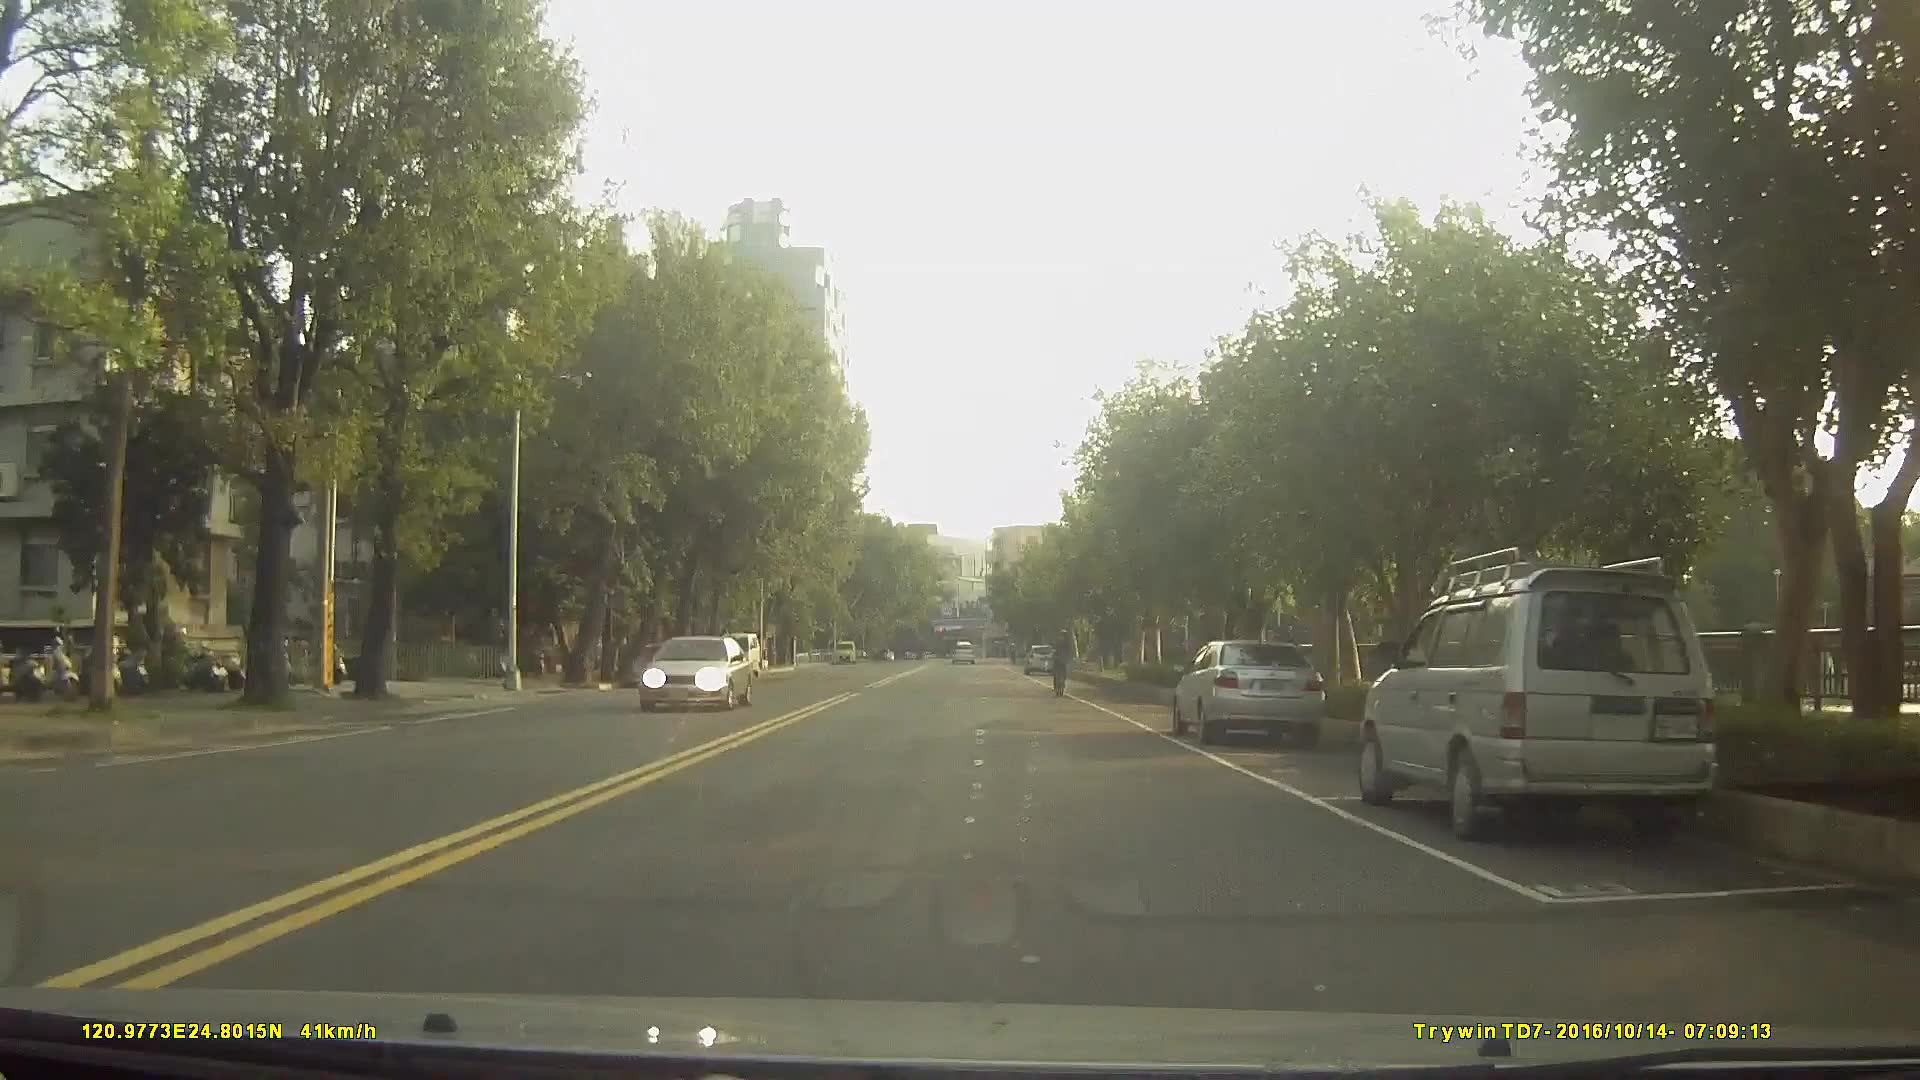rider: (1051, 621, 1075, 700)
vehicle: (1354, 561, 1724, 846), (1172, 634, 1326, 744), (635, 633, 754, 711), (628, 637, 693, 686), (711, 632, 761, 679), (1022, 640, 1058, 675), (948, 636, 976, 664)
